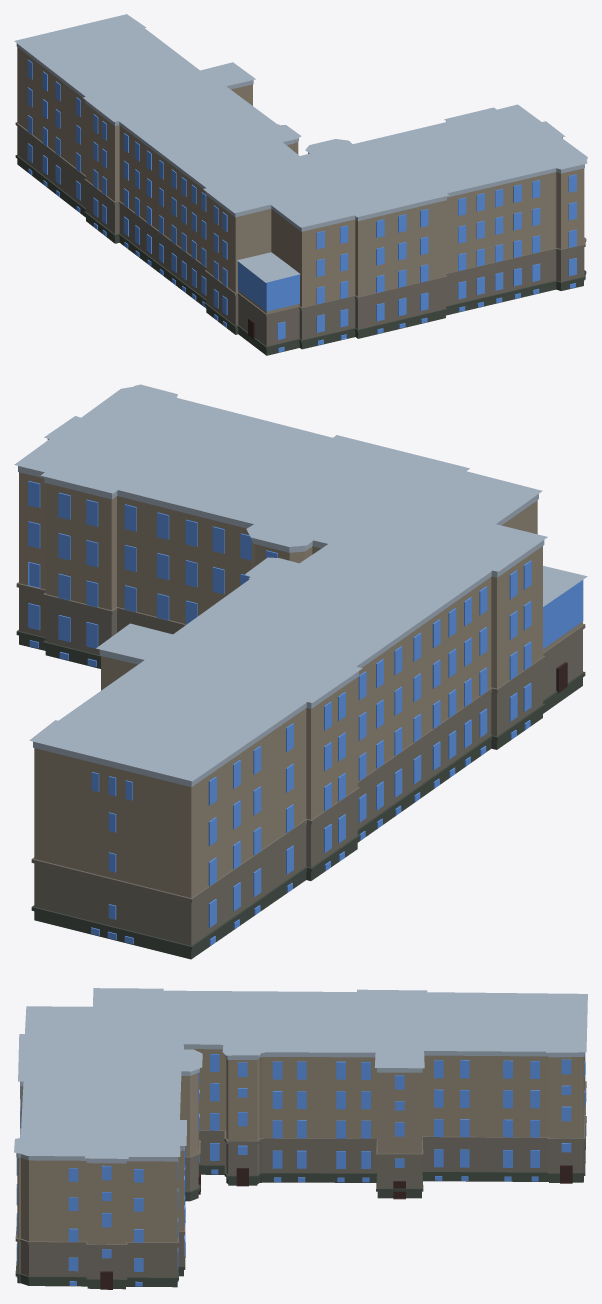
The picture shows the model from 3 angles, top to bottom: view 1: azimuth 30°, elevation 25°; view 2: azimuth 150°, elevation 25°; view 3: azimuth 270°, elevation 25°; orthographic projection. The views are drawn at different scales.
Parts seen in each view (by area): view 1: RoofA1, WallsA1, WallsD1, WallsC1, TrimA1, TrimB1, TrimE1, TrimD1, WallsB1, RoofB1; view 2: RoofA1, WallsA1, WallsD1, TrimA1, TrimB1, WallsC1, TrimD1, TrimE1, WallsB1; view 3: RoofA1, WallsA1, WallsD1, TrimA1, WallsC1, TrimB1, TrimD1, TrimE1.
Part boxes in pixels (x1=…): RoofA1: x1=18, y1=15, x2=584, y2=226; WallsA1: x1=17, y1=47, x2=584, y2=307; WallsD1: x1=17, y1=126, x2=584, y2=339; WallsC1: x1=17, y1=159, x2=584, y2=355; TrimA1: x1=14, y1=14, x2=587, y2=227; TrimB1: x1=16, y1=43, x2=584, y2=231; TrimE1: x1=15, y1=155, x2=586, y2=349; TrimD1: x1=15, y1=122, x2=586, y2=316; WallsB1: x1=238, y1=296, x2=299, y2=346; RoofB1: x1=240, y1=252, x2=298, y2=281; RoofA1: x1=19, y1=386, x2=542, y2=778; WallsA1: x1=19, y1=472, x2=542, y2=897; WallsD1: x1=19, y1=588, x2=542, y2=945; TrimA1: x1=14, y1=384, x2=547, y2=781; TrimB1: x1=18, y1=439, x2=544, y2=787; WallsC1: x1=19, y1=635, x2=582, y2=959; TrimD1: x1=16, y1=582, x2=585, y2=902; TrimE1: x1=16, y1=630, x2=585, y2=950; WallsB1: x1=543, y1=630, x2=582, y2=699; RoofA1: x1=17, y1=989, x2=585, y2=1157; WallsA1: x1=17, y1=1049, x2=585, y2=1244; WallsD1: x1=17, y1=1133, x2=584, y2=1279; TrimA1: x1=14, y1=988, x2=587, y2=1158; WallsC1: x1=17, y1=1168, x2=583, y2=1289; TrimB1: x1=16, y1=1044, x2=584, y2=1163; TrimD1: x1=15, y1=1081, x2=586, y2=1247; TrimE1: x1=15, y1=1116, x2=586, y2=1282.
Size of the model in its own units: 4171 by 1496 by 5922.
